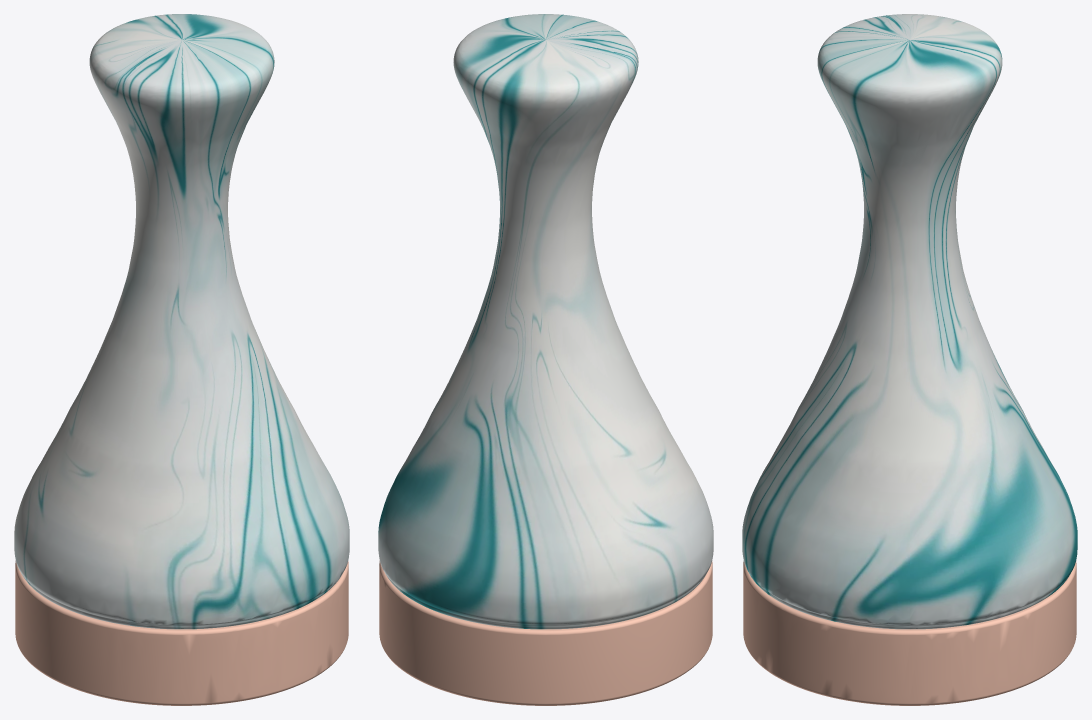
File: bishop-white-hd.glb
3 views of the same model, side by side, from view 1: azimuth 30°, elevation 25°; view 2: azimuth 150°, elevation 25°; view 3: azimuth 270°, elevation 25° (orthographic).
Parts seen in each view (by area): view 1: strelec_bila; view 2: strelec_bila; view 3: strelec_bila.
Part boxes in pixels (bbox=[...]): strelec_bila: bbox=[14, 14, 349, 705]; strelec_bila: bbox=[378, 14, 713, 705]; strelec_bila: bbox=[742, 14, 1077, 705].
Bounding box in the file's own units: 0.6825 × 1.34 × 0.6824.
2 materials, 1 textured.
